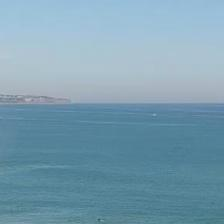surfer: (98, 218, 100, 221)
